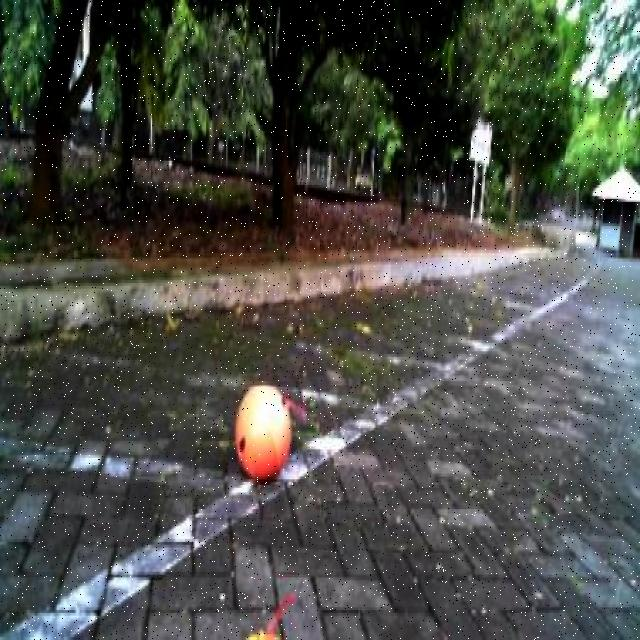buoy: (229, 366, 300, 497)
